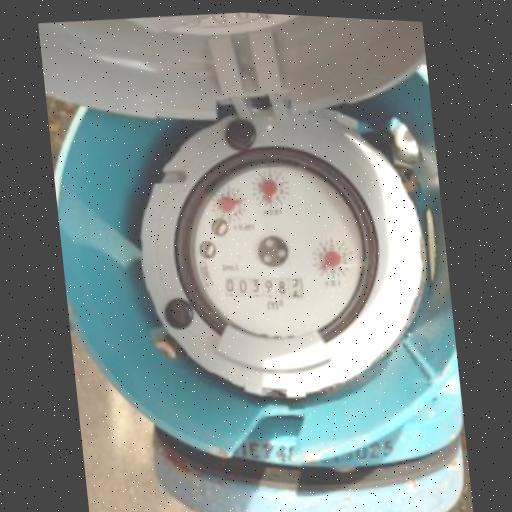0: (234, 274, 253, 299), (222, 275, 239, 296)
3: (249, 275, 265, 297)
5: (286, 276, 307, 301)
8: (274, 276, 291, 300)
9: (260, 276, 279, 299)
border_water_meter_number: (222, 266, 307, 308)
